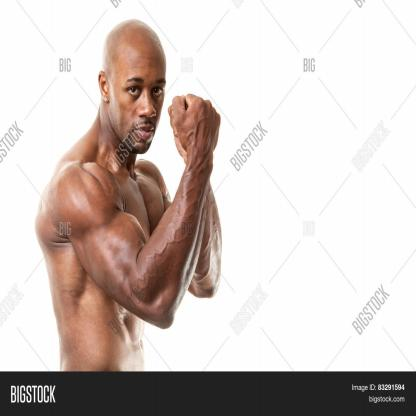fist: (167, 90, 222, 162)
